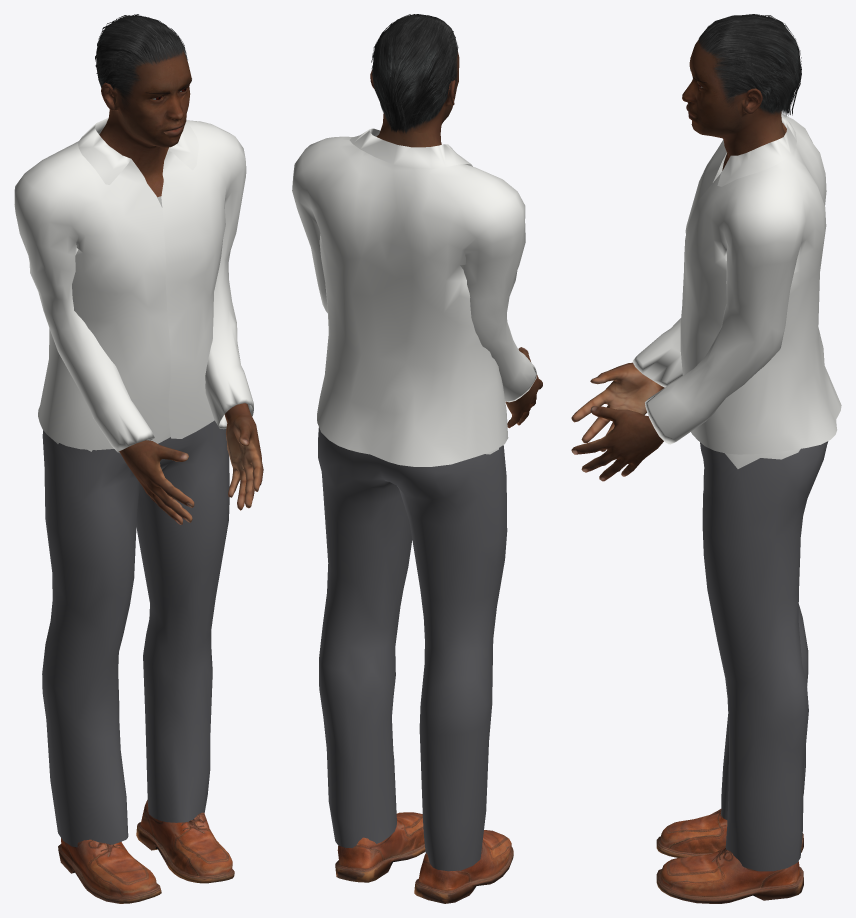
Rendered from street_man_shirt_stand.glb.
3 views of the same model, side by side, from view 1: azimuth 30°, elevation 25°; view 2: azimuth 150°, elevation 25°; view 3: azimuth 270°, elevation 25° (orthographic).
Parts seen in each view (by area): view 1: man_shirt_stand; view 2: man_shirt_stand; view 3: man_shirt_stand.
Part boxes in pixels (x1,y1,x2,y2): man_shirt_stand: (14, 14, 263, 903); man_shirt_stand: (292, 14, 542, 903); man_shirt_stand: (571, 14, 841, 903).
Size of the model in its own units: 0.4817 by 1.77 by 0.5066.
Materials: 10 (8 with a texture image).
